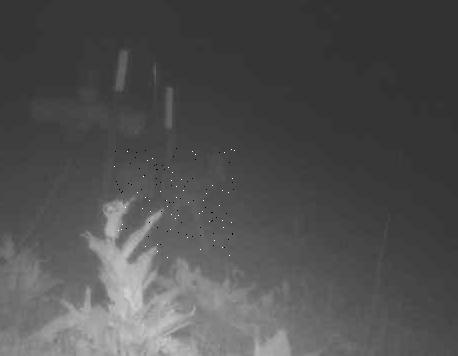Deer: (113, 148, 235, 258)
